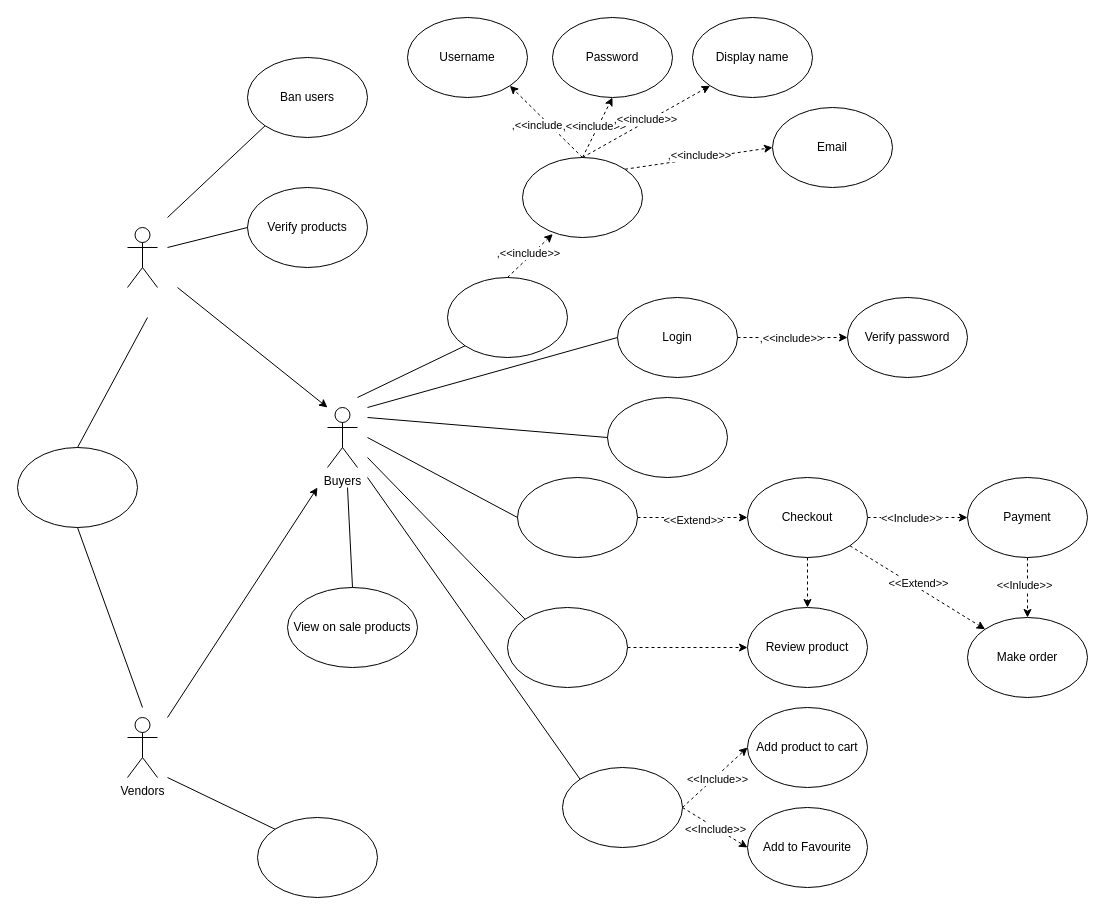
This 1105x915 diagram has some shape labels left out. The shapes that lost their labels are listed below. From the top down, each one's centre as x and y in pixels, then its label:
(x=582, y=197): Provide personal information
(x=142, y=257): Administrator
(x=507, y=317): Register
(x=667, y=437): Logout
(x=77, y=487): Remove Product
(x=577, y=517): View cart
(x=567, y=647): View orders
(x=622, y=807): Search
(x=317, y=857): Add product for sale
